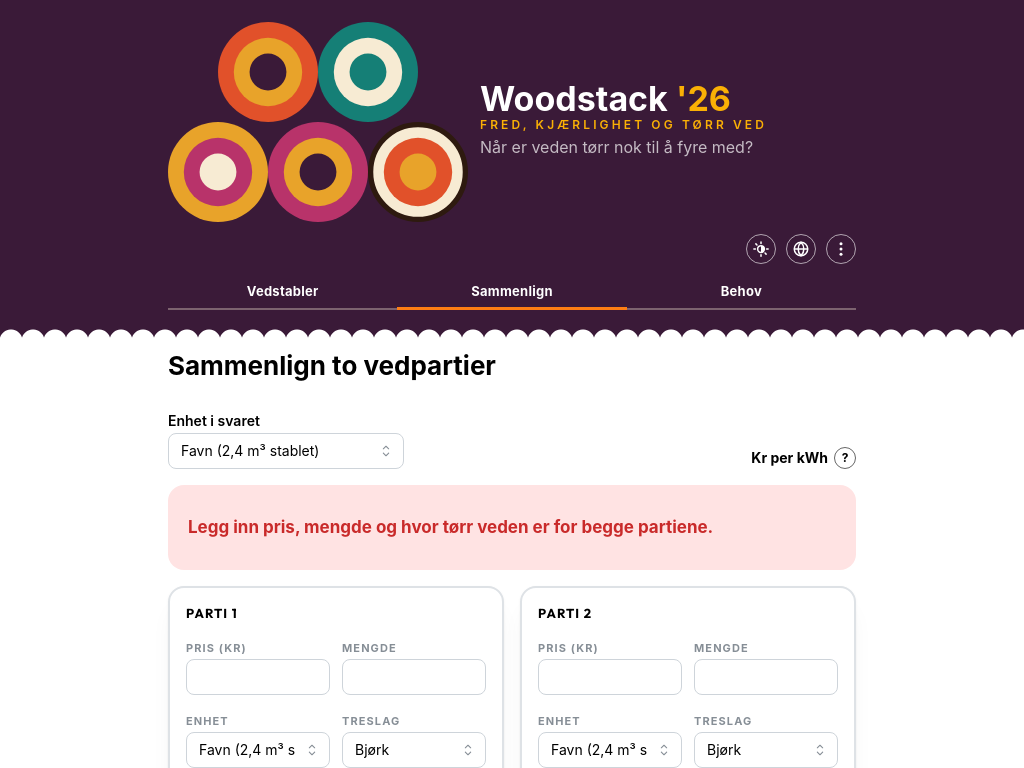
Test case: App and the comparison screen › clears the hash and shows the list again on the way back
Expected: the heading "Sammenlign to vedpartier" is shown, [168, 348, 496, 384]
Click the tab "Vedstabler": (283, 293) [168, 276, 397, 310]
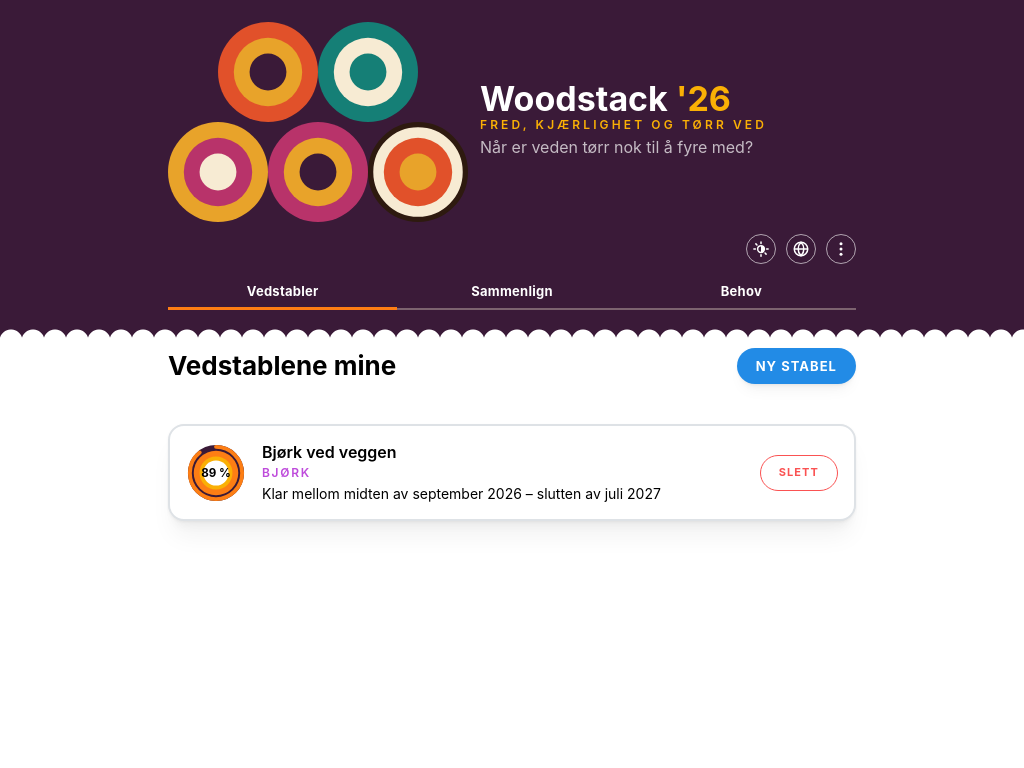
Expected: the text "Bjørk ved veggen" is shown, [262, 442, 397, 462]
